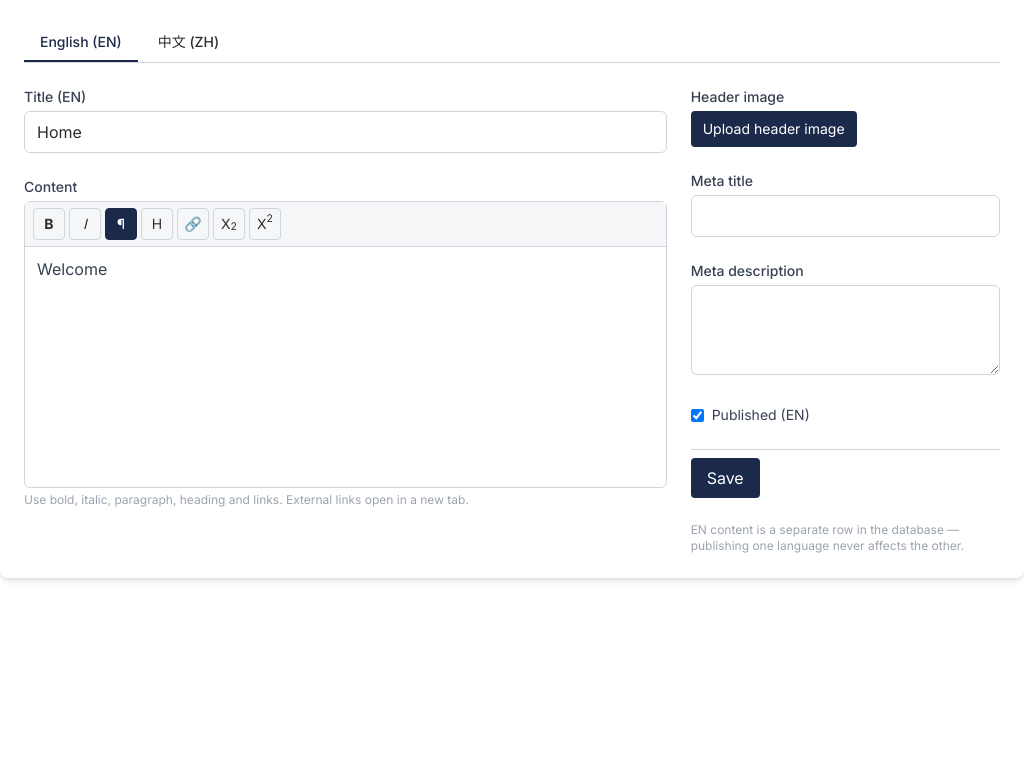
it: PageEditor › shows an 'Unsaved changes' indicator when the active locale is edited
This screenshot has width=1024, height=768.
Replace the text in the field labelled "Title (EN)" with "New Home" at (345, 132), box [24,111,667,153]
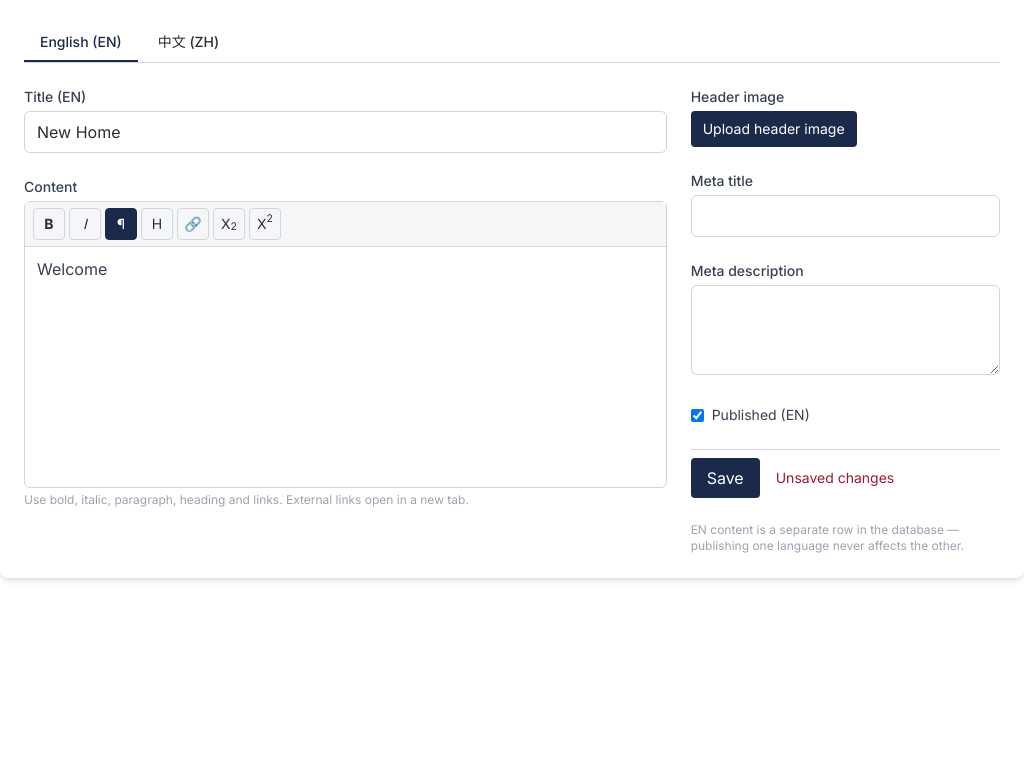
expect the text "Unsaved changes" is shown: met, box [776,468,894,488]
